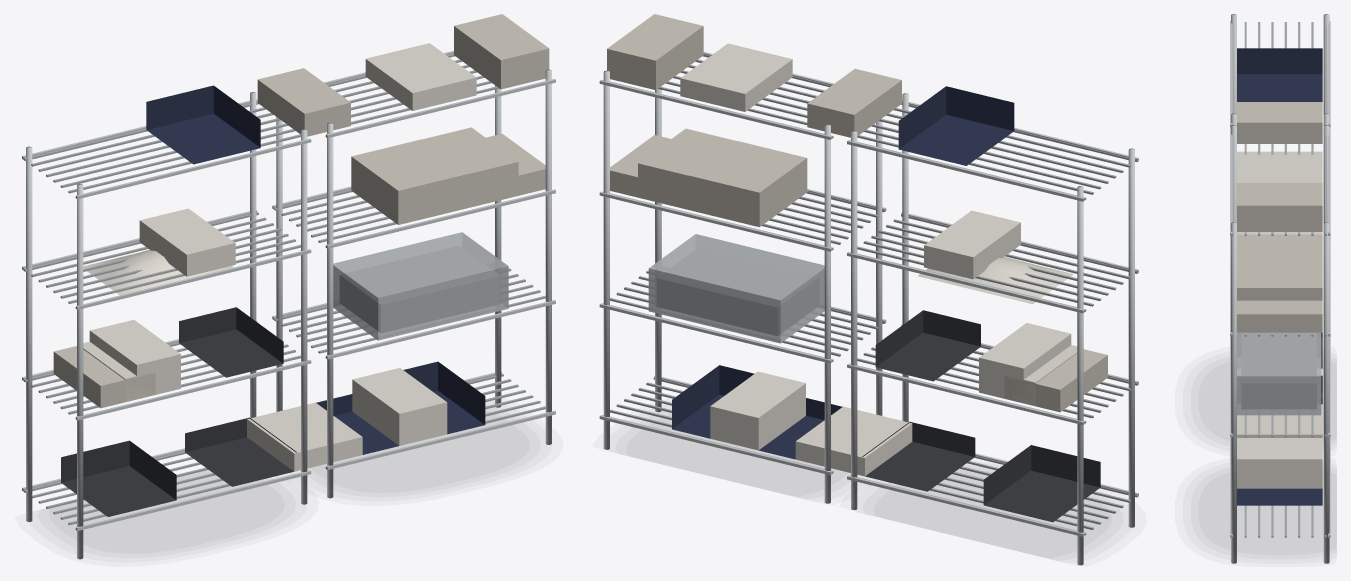
Rendered from master_closet_shelving.glb.
3 renders of one model, left to right at view 1: azimuth 30°, elevation 25°; view 2: azimuth 150°, elevation 25°; view 3: azimuth 270°, elevation 25°, orthographic. The views are drawn at different scales.
Visible parts, largest first — view 1: root; view 2: root; view 3: root.
Part boxes in pixels (x1=…): root: x1=22, y1=14, x2=555, y2=559; root: x1=599, y1=14, x2=1138, y2=565; root: x1=1198, y1=14, x2=1336, y2=563.
Size of the model in its own units: 2.82 by 2.11 by 0.8627.
